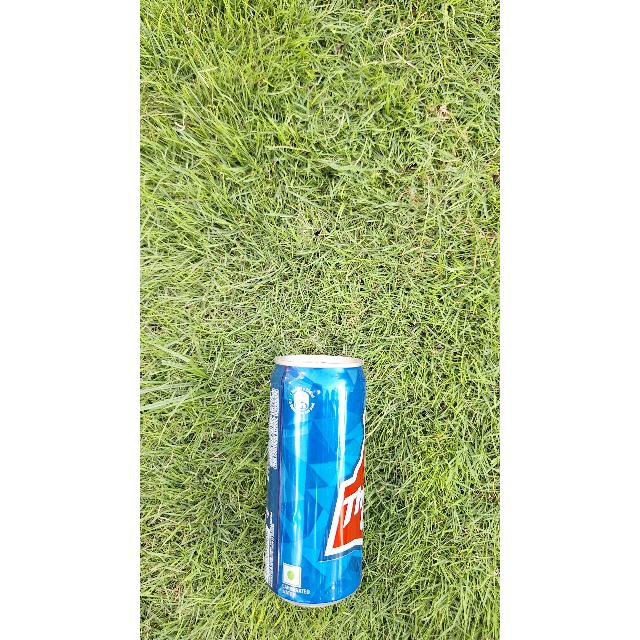Thums Up: (263, 347, 375, 608)
